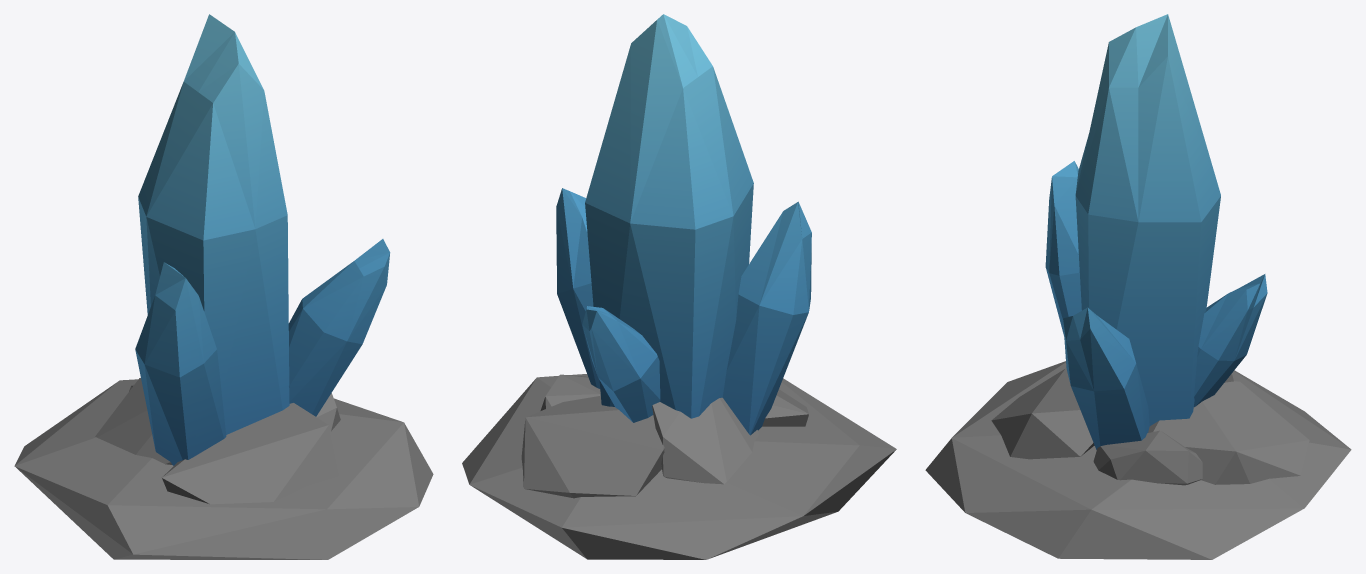
Rendered from Crystal_02.fbx.
3 renders of one model, left to right at view 1: azimuth 30°, elevation 25°; view 2: azimuth 150°, elevation 25°; view 3: azimuth 270°, elevation 25°, orthographic.
Parts seen in each view (by area): view 1: Crystal_02; view 2: Crystal_02; view 3: Crystal_02.
Boxes of the visible parts, left/top/right/bottom form: Crystal_02: left=14, top=14, right=433, bottom=559; Crystal_02: left=462, top=14, right=896, bottom=559; Crystal_02: left=925, top=14, right=1351, bottom=559.
Size of the model in its own units: 0.8047 by 1.09 by 0.8736.
